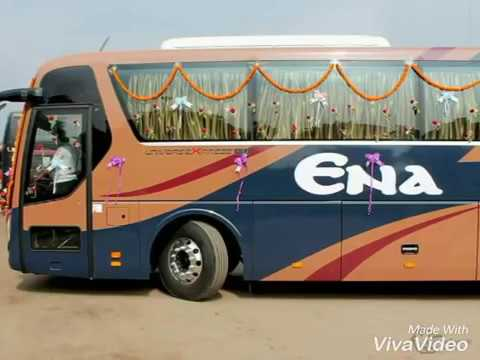bus: (8, 50, 476, 299)
